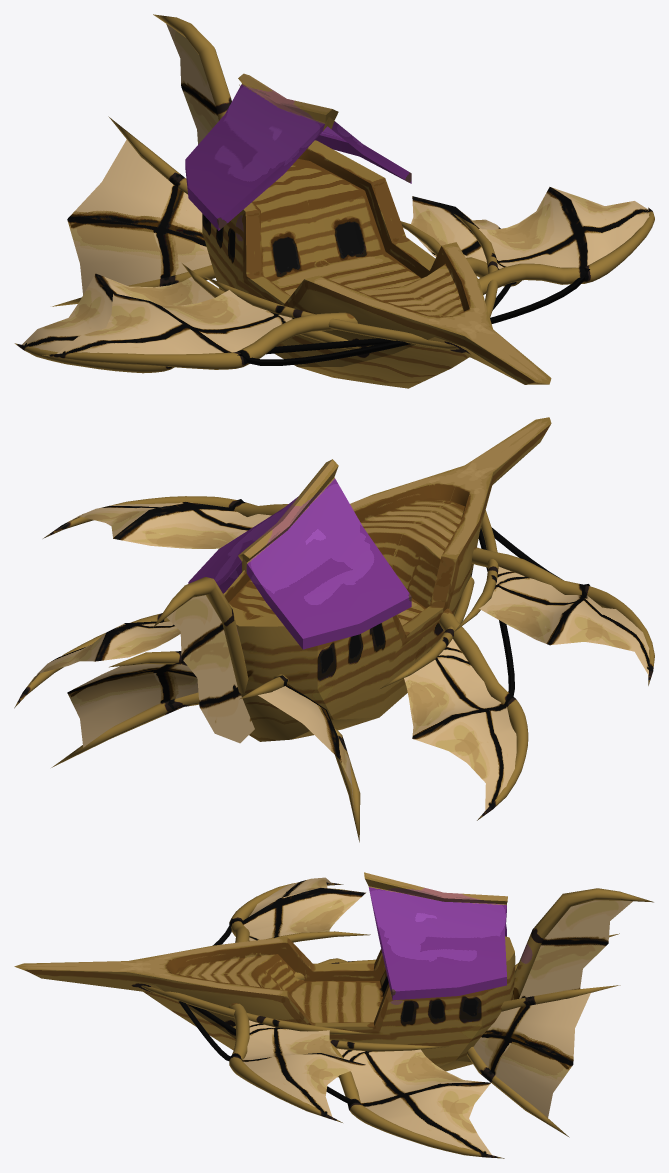
File: FlyingShip.fbx
3 views of the same model, one above another, from view 1: azimuth 30°, elevation 25°; view 2: azimuth 150°, elevation 25°; view 3: azimuth 270°, elevation 25° (orthographic). The views are drawn at different scales.
Visible parts, largest first — view 1: Mesh; view 2: Mesh; view 3: Mesh.
Part boxes in pixels (left/top/right/bottom): Mesh: left=14, top=14, right=654, bottom=388; Mesh: left=14, top=417, right=654, bottom=842; Mesh: left=14, top=872, right=653, bottom=1158.
Size of the model in its own units: 418 by 167 by 474.
Materials: 2 (1 with a texture image).
